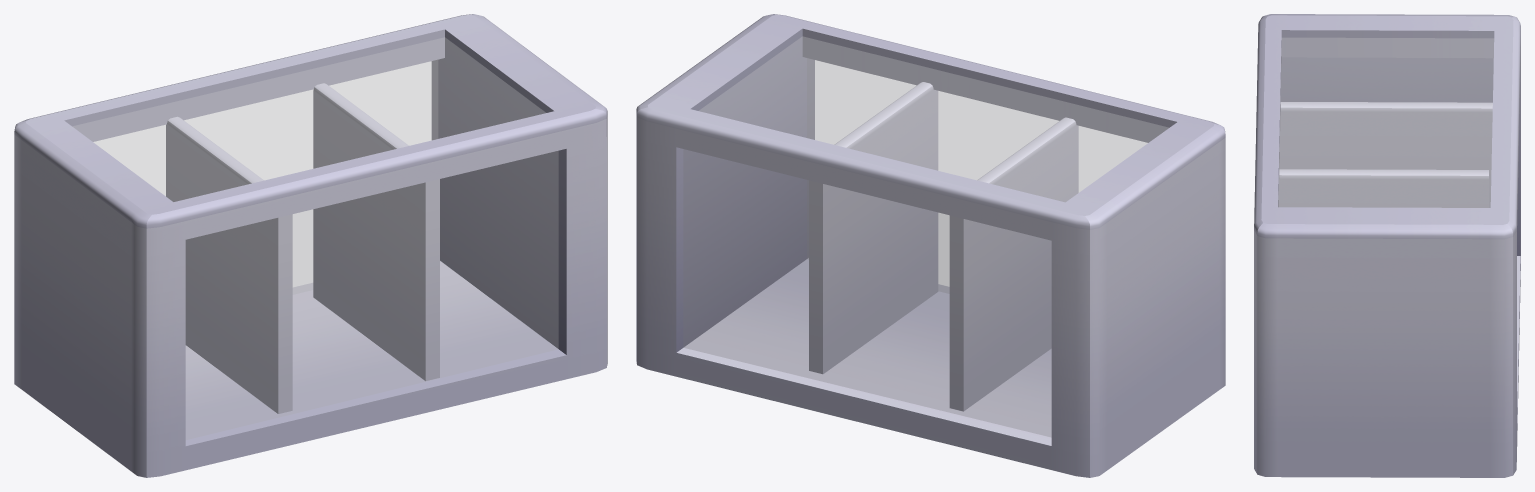
The model's file is asset_Freezer.fbx.
3 views of the same model, side by side, from view 1: azimuth 30°, elevation 25°; view 2: azimuth 150°, elevation 25°; view 3: azimuth 270°, elevation 25° (orthographic). The views are drawn at different scales.
Visible parts, largest first — view 1: asset_Freezer; view 2: asset_Freezer; view 3: asset_Freezer.
Boxes of the visible parts, x1,y1,x2,y2 form: asset_Freezer: (14,14,607,477); asset_Freezer: (636,14,1225,477); asset_Freezer: (1254,14,1520,477).
Size of the model in its own units: 164 by 86.41 by 84.23.
2 materials, 1 textured.
